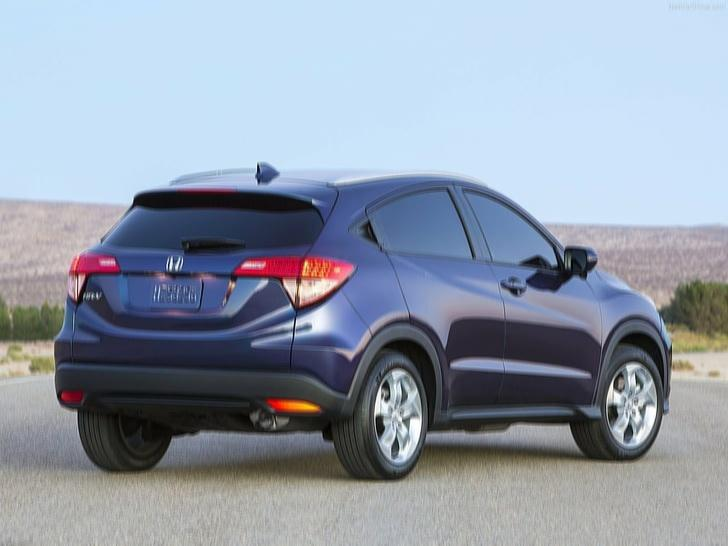Car boot: (70, 171, 334, 382)
Driver-s door - -F-R-: (457, 173, 613, 436)
Fender - -F-R-: (580, 264, 662, 421)
Fender - -R-R-: (310, 176, 418, 346)
Headlight - -L-: (64, 248, 124, 305)
Headlight - -R-: (228, 256, 355, 314)
Passenger-s door - -R-R-: (355, 168, 510, 437)
Rear bumper: (52, 340, 363, 437)
Side bumper - -R-: (425, 389, 616, 452)
Side mirror - -R-: (556, 242, 603, 285)
